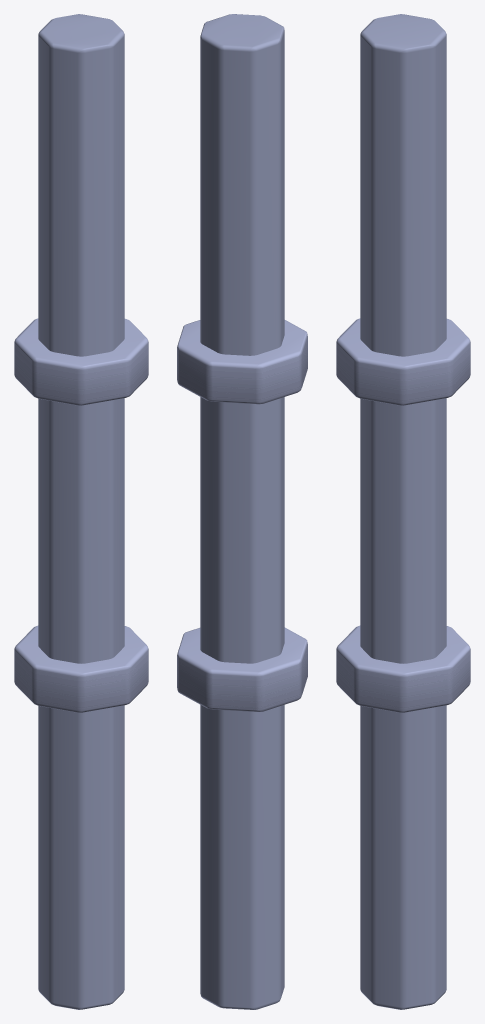
The model's file is gutter-vertical-wall.glb.
3 renders of one model, left to right at view 1: azimuth 90°, elevation 25°; view 2: azimuth 150°, elevation 25°; view 3: azimuth 270°, elevation 25°, orthographic.
Visible parts, largest first — view 1: gutter-vertical-wall; view 2: gutter-vertical-wall; view 3: gutter-vertical-wall.
Boxes of the visible parts, x1,y1,x2,y2 form: gutter-vertical-wall: (14, 14, 148, 1009); gutter-vertical-wall: (177, 14, 307, 1009); gutter-vertical-wall: (336, 14, 470, 1009).
Size of the model in its own units: 0.3036 by 2.4 by 0.3036.
1 material, 1 textured.
